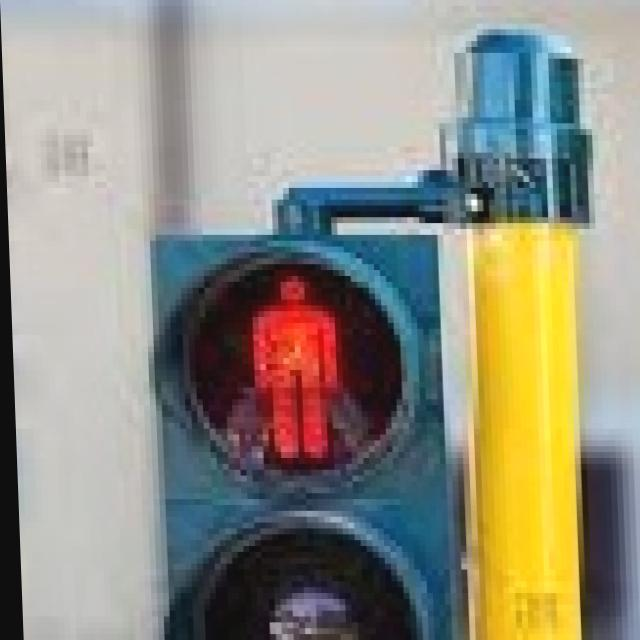red_light: (213, 252, 383, 476)
